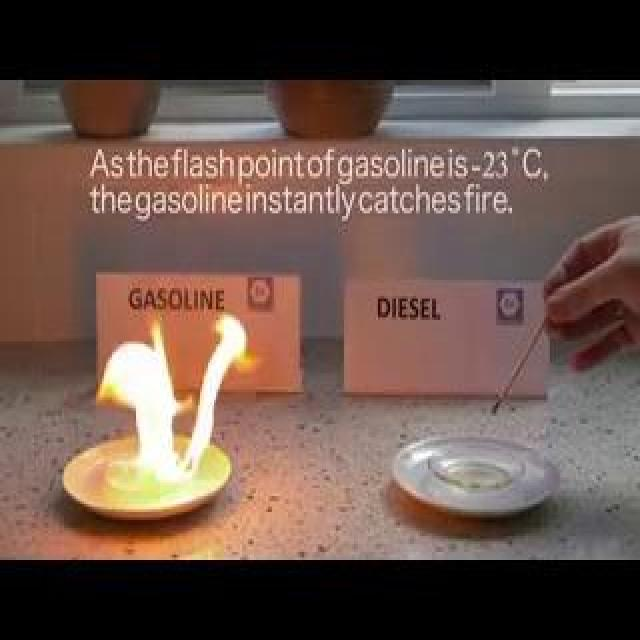Fire: (123, 277, 235, 480)
